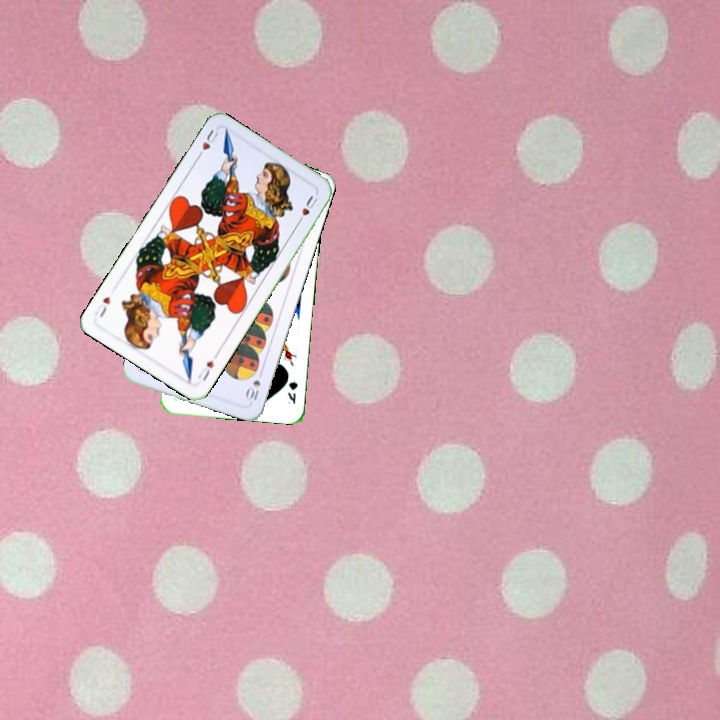GK: (284, 376, 300, 407)
HU: (193, 125, 221, 162), (194, 349, 221, 383)
S10: (242, 375, 263, 403)
